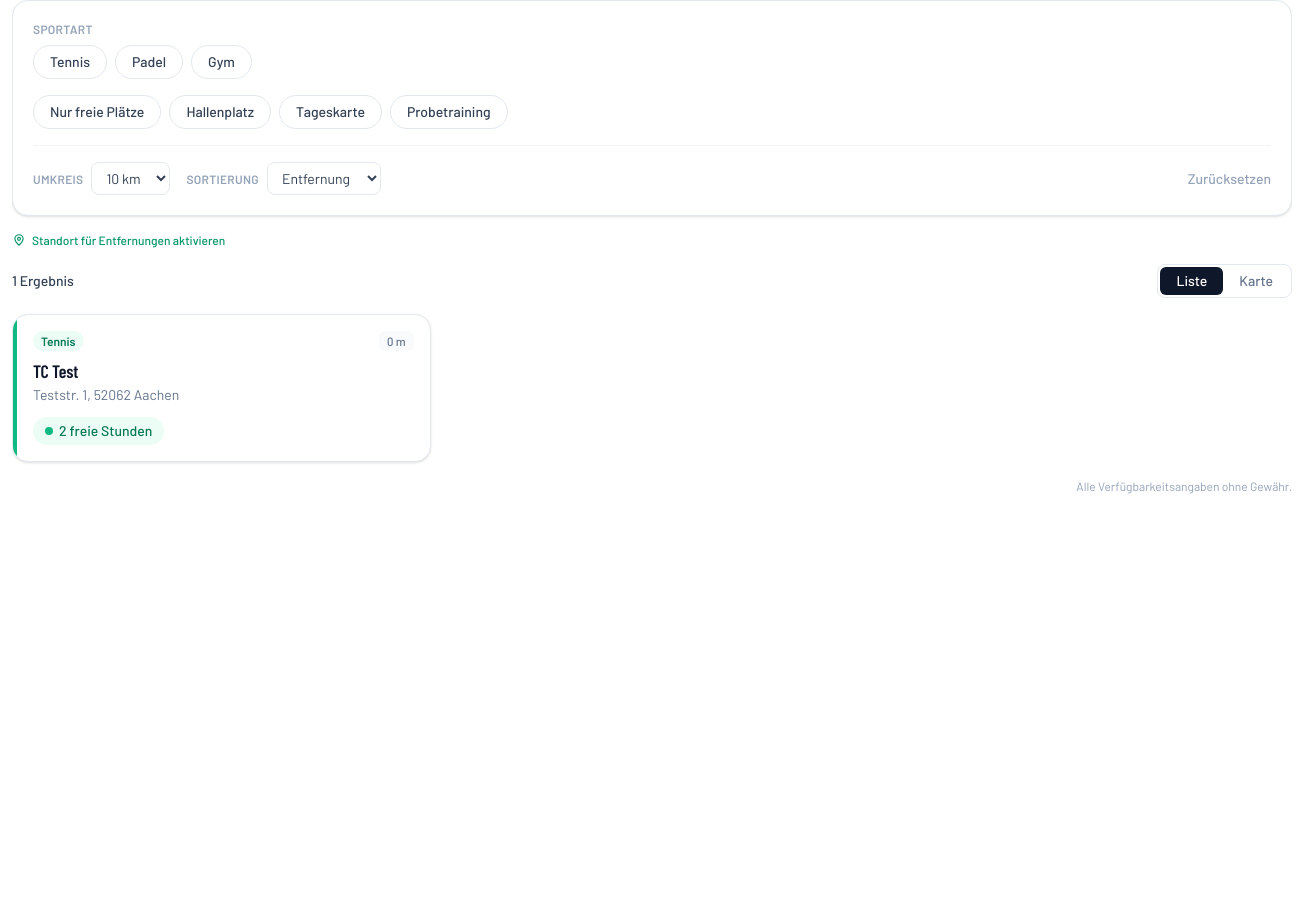
Test: VenueList tab toggle › switches back to Liste tab
This screenshot has width=1304, height=900.
Click the button "Karte".
click(1256, 281)  # box [1223, 267, 1289, 295]
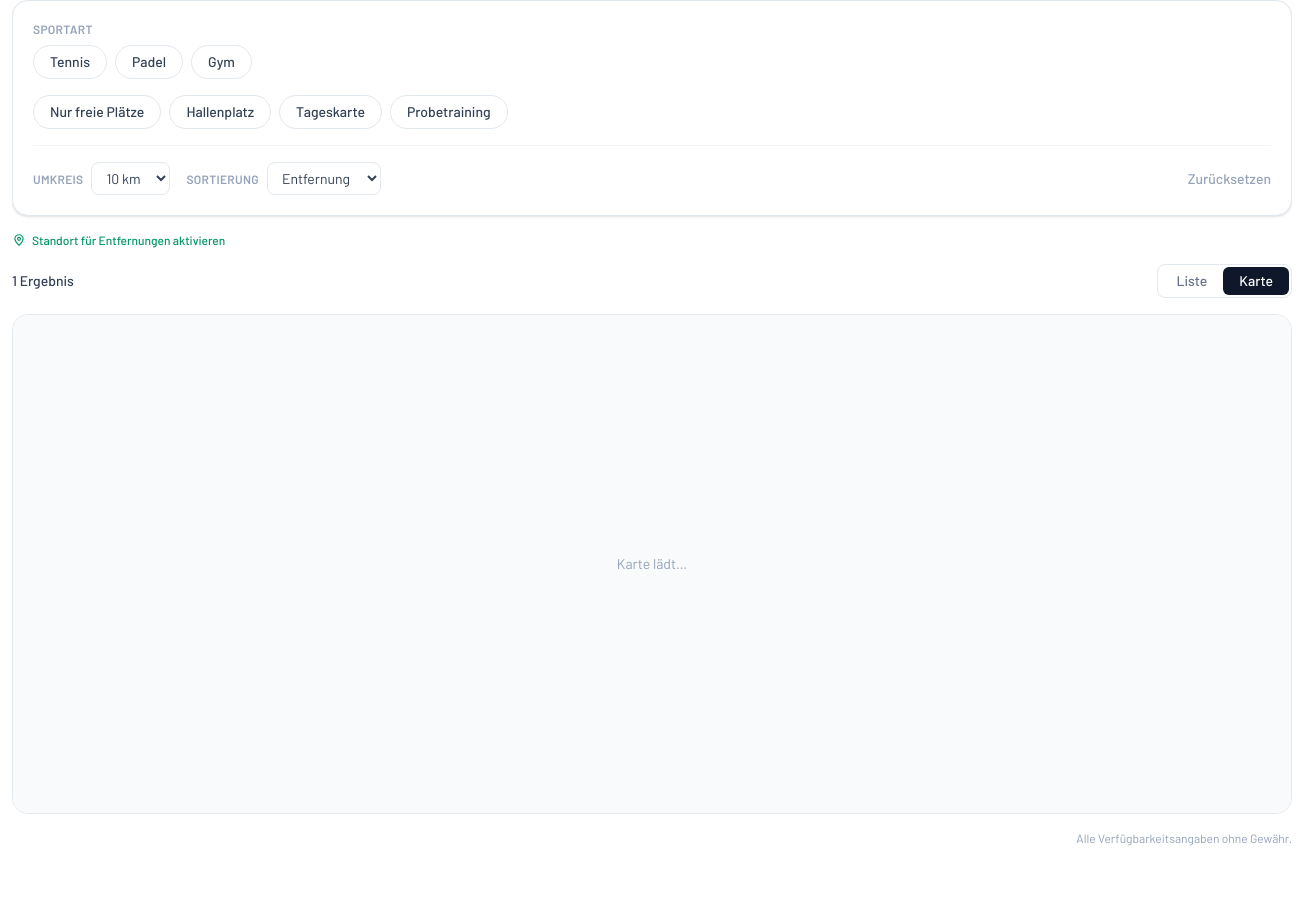
Click the button "Liste".
click(1192, 281)  # box [1160, 267, 1223, 295]
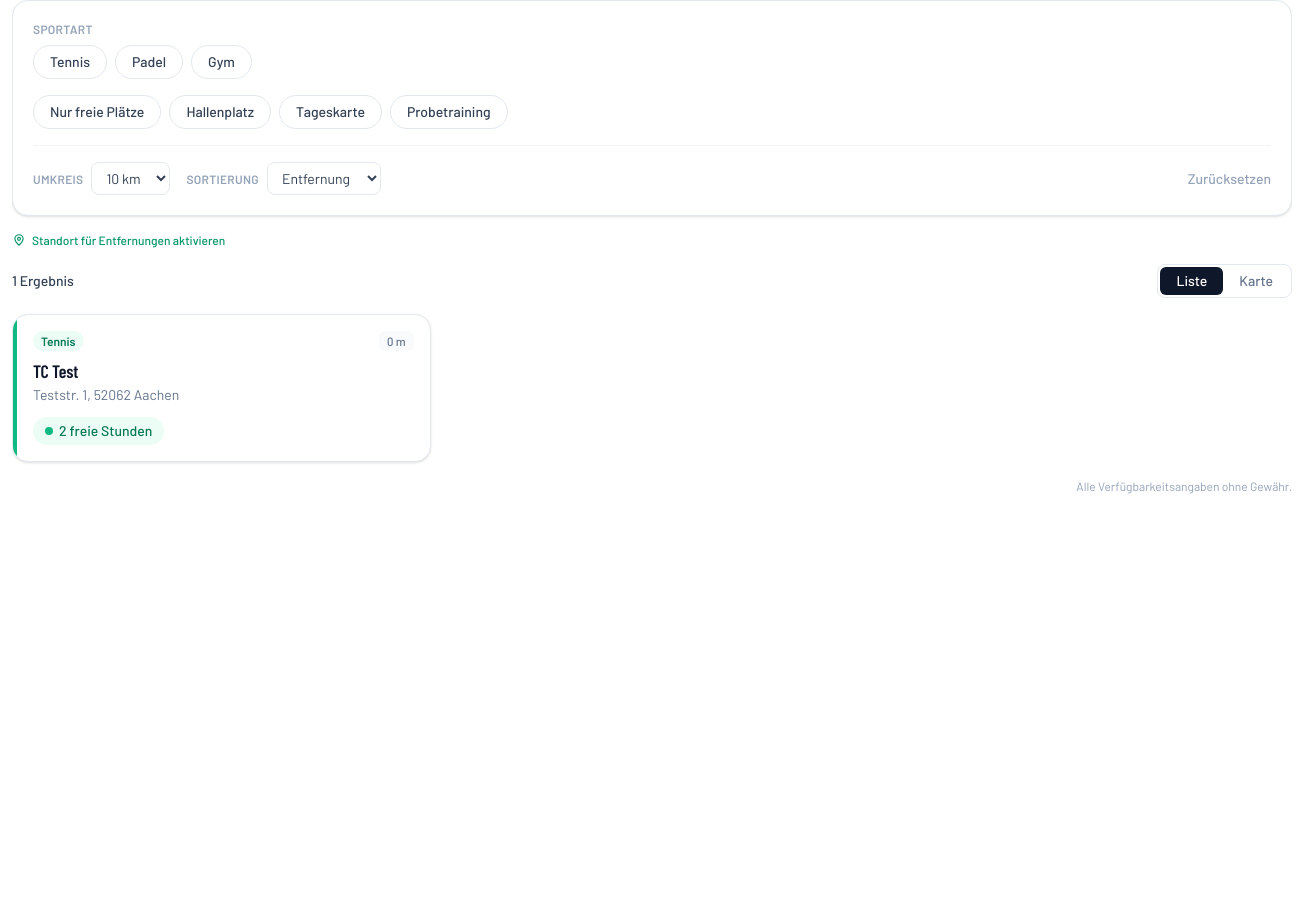
Result: the heading "TC Test" is shown at [33, 360, 78, 382]
